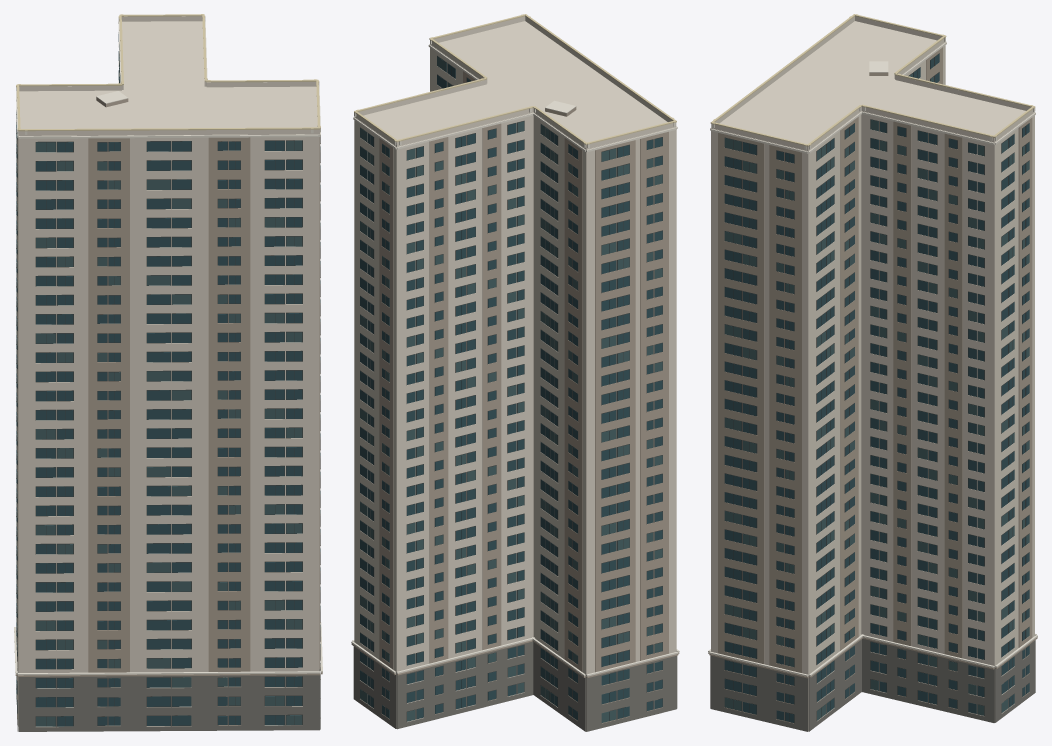
Rendered from bespoke-raemian-prestige-113.glb.
3 views of the same model, side by side, from view 1: azimuth 30°, elevation 25°; view 2: azimuth 150°, elevation 25°; view 3: azimuth 270°, elevation 25° (orthographic). The views are drawn at different scales.
Parts seen in each view (by area): view 1: Prestige_warm_ivory_rendered_wall018, Prestige_recessed_blue_green_window018, Prestige_wide_taupe_pilasters018, Prestige_dark_bronze_thin_window_frame018, Prestige_dark_brown_grey_stone_base018, Prestige_muted_green_window_pair018, Prestige_pale_limestone_band018, Prestige_cream_gold_crown_coping018; view 2: Prestige_warm_ivory_rendered_wall018, Prestige_wide_taupe_pilasters018, Prestige_recessed_blue_green_window018, Prestige_dark_bronze_thin_window_frame018, Prestige_dark_brown_grey_stone_base018, Prestige_muted_green_window_pair018, Prestige_pale_limestone_band018, Prestige_cream_gold_crown_coping018; view 3: Prestige_warm_ivory_rendered_wall018, Prestige_wide_taupe_pilasters018, Prestige_recessed_blue_green_window018, Prestige_dark_bronze_thin_window_frame018, Prestige_dark_brown_grey_stone_base018, Prestige_muted_green_window_pair018, Prestige_pale_limestone_band018, Prestige_cream_gold_crown_coping018.
Part boxes in pixels (box(x1,y1,x2,y2)): Prestige_warm_ivory_rendered_wall018: box(18, 16, 319, 727); Prestige_recessed_blue_green_window018: box(16, 44, 320, 726); Prestige_wide_taupe_pilasters018: box(15, 56, 322, 726); Prestige_dark_bronze_thin_window_frame018: box(16, 51, 320, 726); Prestige_dark_brown_grey_stone_base018: box(16, 646, 320, 731); Prestige_muted_green_window_pair018: box(16, 34, 320, 726); Prestige_pale_limestone_band018: box(14, 17, 322, 675); Prestige_cream_gold_crown_coping018: box(16, 14, 320, 131); Prestige_warm_ivory_rendered_wall018: box(354, 16, 676, 731); Prestige_wide_taupe_pilasters018: box(351, 71, 679, 723); Prestige_recessed_blue_green_window018: box(360, 64, 662, 720); Prestige_dark_bronze_thin_window_frame018: box(360, 55, 662, 721); Prestige_dark_brown_grey_stone_base018: box(353, 641, 677, 731); Prestige_muted_green_window_pair018: box(360, 56, 662, 722); Prestige_pale_limestone_band018: box(351, 40, 679, 676); Prestige_cream_gold_crown_coping018: box(354, 14, 676, 144); Prestige_warm_ivory_rendered_wall018: box(711, 16, 1034, 731); Prestige_wide_taupe_pilasters018: box(708, 47, 1037, 723); Prestige_recessed_blue_green_window018: box(724, 54, 1029, 722); Prestige_dark_bronze_thin_window_frame018: box(724, 53, 1029, 723); Prestige_dark_brown_grey_stone_base018: box(710, 638, 1035, 731); Prestige_muted_green_window_pair018: box(724, 73, 1029, 720); Prestige_pale_limestone_band018: box(708, 37, 1037, 676); Prestige_cream_gold_crown_coping018: box(710, 14, 1035, 146).
Bounding box in the file's own units: 42.91 × 87.7 × 44.7.
